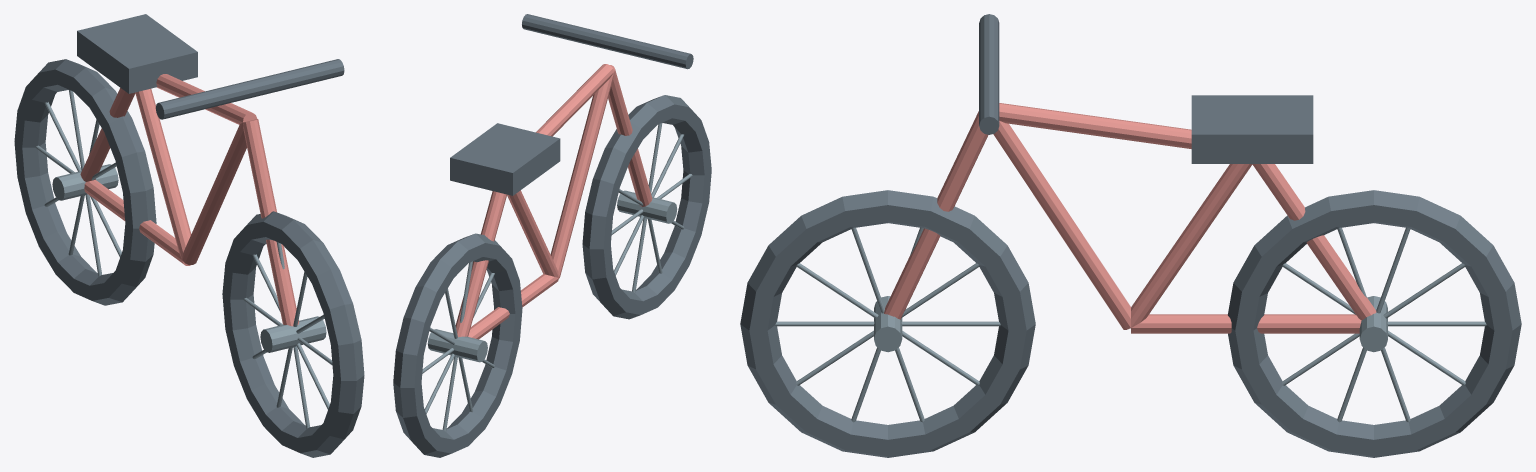
File: bicycle.glb
3 renders of one model, left to right at view 1: azimuth 30°, elevation 25°; view 2: azimuth 150°, elevation 25°; view 3: azimuth 270°, elevation 25°, orthographic. The views are drawn at different scales.
Visible parts, largest first — view 1: bicycle_000, bicycle_012, bicycle_030, bicycle_031, bicycle_024, bicycle_029, bicycle_028, bicycle_027, bicycle_001, bicycle_025, bicycle_026, bicycle_013 (+4 smaller); view 2: bicycle_000, bicycle_012, bicycle_030, bicycle_028, bicycle_031, bicycle_026, bicycle_024, bicycle_025, bicycle_029, bicycle_027, bicycle_013, bicycle_001 (+2 smaller); view 3: bicycle_000, bicycle_012, bicycle_030, bicycle_028, bicycle_025, bicycle_027, bicycle_029, bicycle_024, bicycle_026, bicycle_031, bicycle_013, bicycle_001.
Boxes of the visible parts, x1,y1,x2,y2 form: bicycle_000: (222,211,364,457); bicycle_012: (14,59,156,305); bicycle_030: (77,14,197,93); bicycle_031: (155,59,344,119); bicycle_024: (243,119,299,326); bicycle_029: (135,88,191,259); bicycle_028: (182,122,246,264); bicycle_027: (84,180,190,265); bicycle_001: (260,316,326,352); bicycle_025: (156,74,257,124); bicycle_026: (80,88,135,181); bicycle_013: (52,164,118,200); bicycle_000: (582,95,711,319); bicycle_012: (393,233,522,457); bicycle_030: (450,123,560,195); bicycle_028: (550,72,613,278); bicycle_031: (522,14,693,69); bicycle_026: (455,191,506,337); bicycle_024: (608,65,652,206); bicycle_025: (536,64,613,136); bicycle_029: (507,190,558,277); bicycle_027: (468,274,558,339); bicycle_013: (427,329,487,362); bicycle_001: (617,190,677,223); bicycle_000: (740,190,1035,457); bicycle_012: (1227,190,1521,457); bicycle_030: (1191,95,1313,163); bicycle_028: (993,121,1130,329); bicycle_025: (999,103,1191,148); bicycle_027: (1131,314,1361,333); bicycle_029: (1131,164,1252,327); bicycle_024: (884,111,988,319); bicycle_026: (1252,164,1376,320); bicycle_031: (979,14,999,134); bicycle_013: (1359,296,1387,352); bicycle_001: (874,296,902,352).
Bounding box in the file's own units: 0.6 × 1.07 × 1.93.
